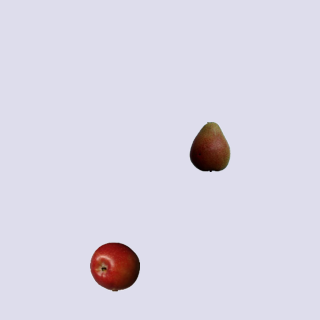Apple Braeburn: (89, 241, 139, 291)
Pear Forelle: (184, 121, 234, 171)
